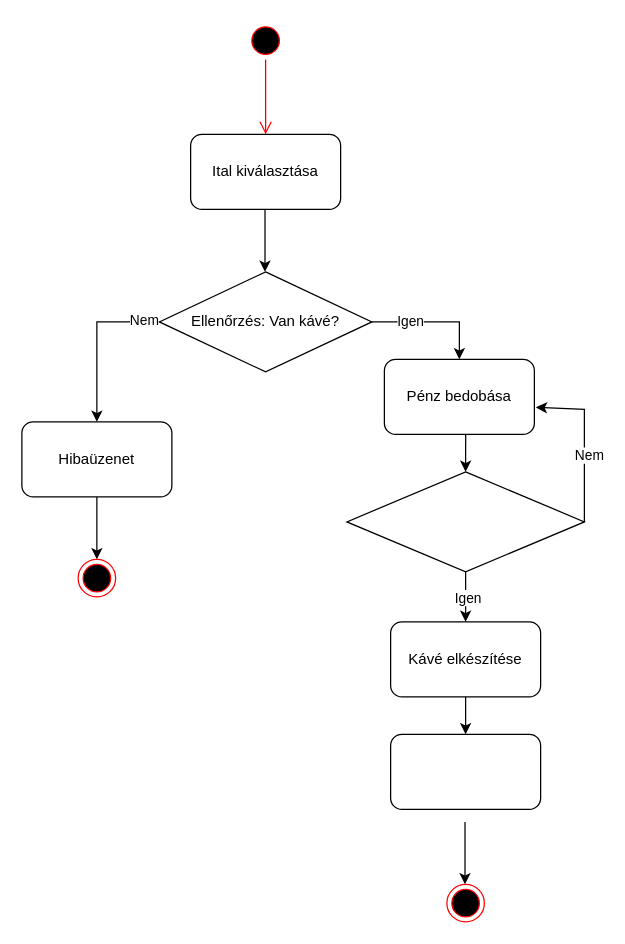
The diagram is 625 pixels wide and 944 high, and some of its shapes have lost their labels. Each missing label, with the centre of its shape:
"Elég pénzem van?" goes at point 465,521.
"Ital kiadása" goes at point 465,771.
